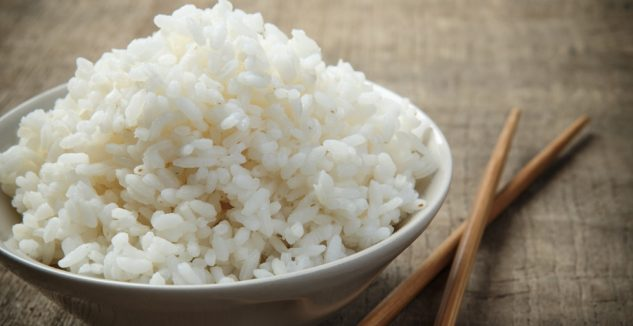rice: (5, 9, 444, 284)
